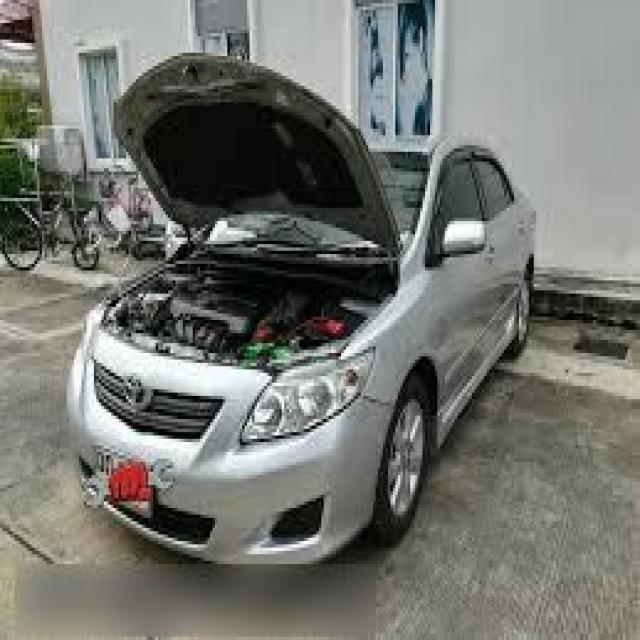back_left_door: (470, 145, 526, 344)
front_bumper: (67, 327, 395, 569)
front_left_door: (433, 146, 496, 415)
front_left_light: (240, 347, 374, 444)
front_right_light: (79, 306, 98, 363)
hood: (114, 51, 403, 256)
left_mirror: (433, 217, 485, 269)
wheel: (378, 375, 432, 541), (516, 268, 530, 345)
